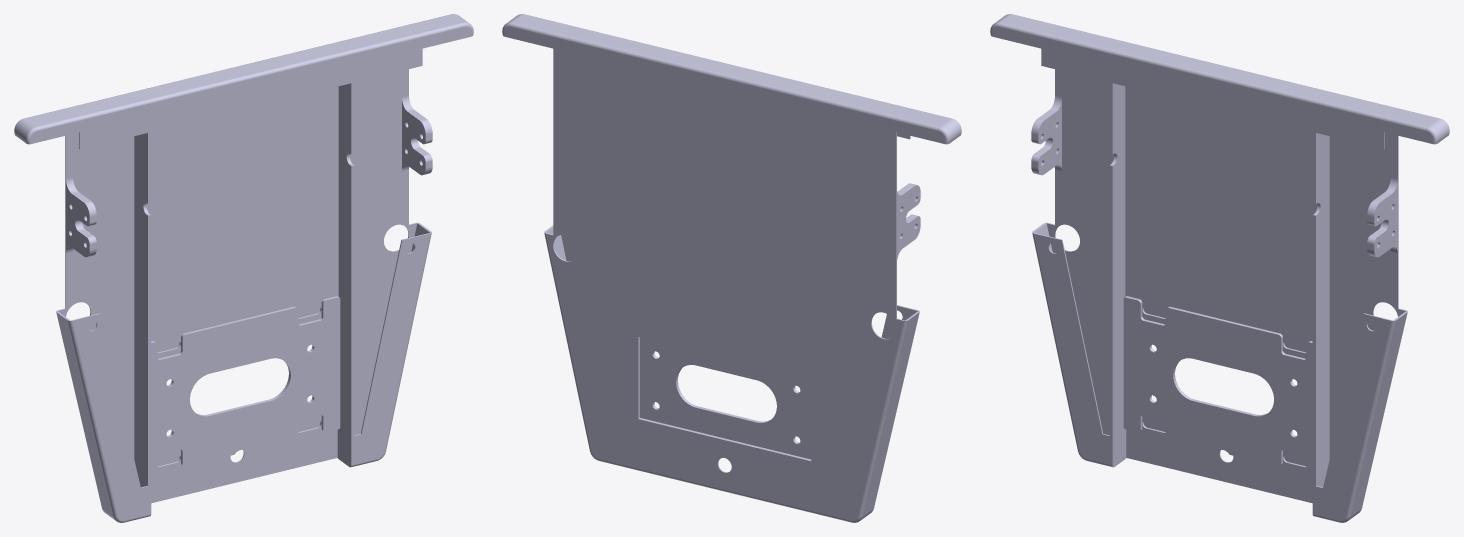
3 renders of one model, left to right at view 1: azimuth 30°, elevation 25°; view 2: azimuth 150°, elevation 25°; view 3: azimuth 330°, elevation 25°, orthographic.
Parts seen in each view (by area): view 1: node0; view 2: node0; view 3: node0.
Boxes of the visible parts, <box> form: node0: <box>14,14,473,522</box>; node0: <box>502,14,961,522</box>; node0: <box>990,14,1449,522</box>.
Bounding box in the file's own units: 0.4436 × 0.042 × 0.395.
